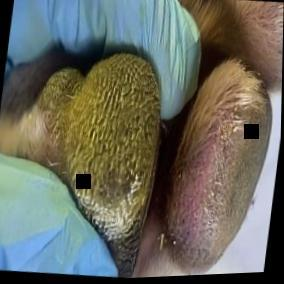keratosis: (20, 40, 171, 251)
